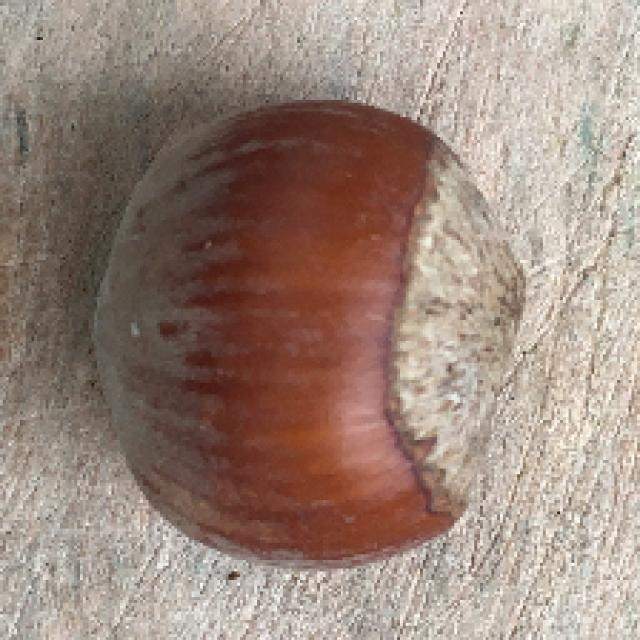qualityHazelnut: (84, 93, 534, 576)
